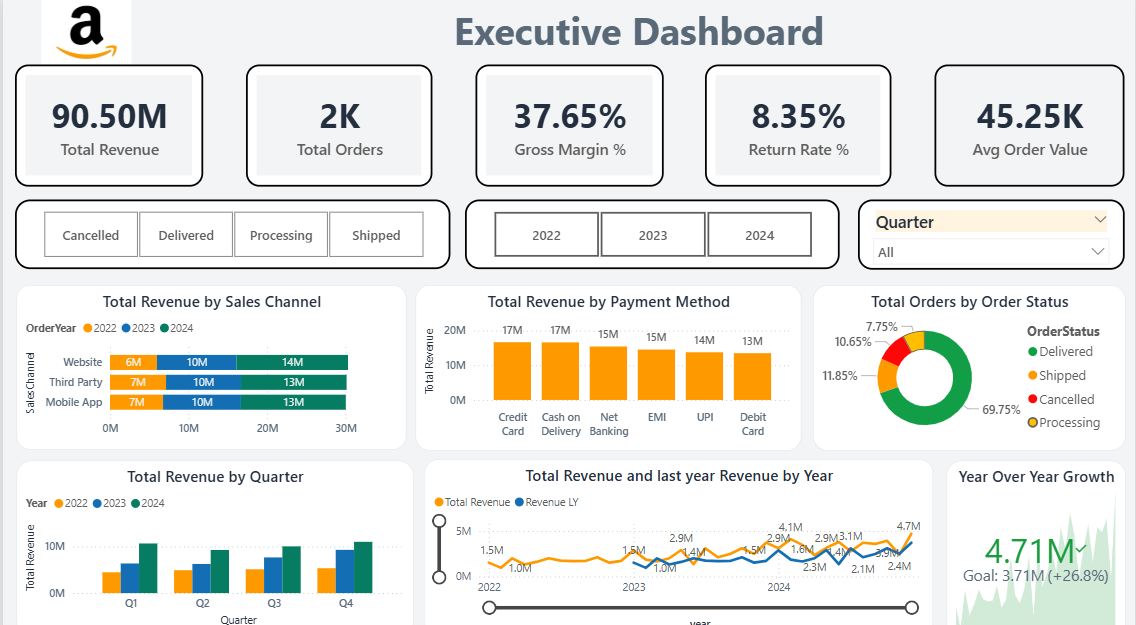

The page's visual inventory and layout, read from the dashboard file:
{"tool":"powerbi","page":{"name":"Executive dashboard","canvas":[1280,720],"ordinal":0},"visuals":[{"type":"lineChart","title":"Total Revenue and last year Revenue by Year","fields":{"Y":["measure table.Total Revenue","measure table.Revenue LY"],"Category":["DateTable.Date.Variation.Date Hierarchy.Year","DateTable.Date.Variation.Date Hierarchy.Month"]},"box":[479.3,519.8,563.5,200.8],"z":0},{"type":"clusteredColumnChart","title":"Total Revenue by Quarter","fields":{"Category":["DateTable.Quarter"],"Y":["measure table.Total Revenue"],"Series":["DateTable.Year"]},"box":[14.6,519.8,448.5,199.2],"z":1000},{"type":"donutChart","fields":{"Category":["Orders.OrderStatus"],"Y":["measure table.Total Orders"]},"box":[945.6,322.2,322.2,186.2],"z":2000},{"type":"barChart","title":"Total Revenue by Sales Channel ","fields":{"Category":["Orders.SalesChannel"],"Y":["measure table.Total Revenue"],"Series":["DateTable.Year"]},"box":[14.6,322.2,440.4,186.2],"z":3000},{"type":"clusteredColumnChart","fields":{"Category":["Orders.PaymentMethod"],"Y":["measure table.Total Revenue"]},"box":[463.1,322.2,471.2,186.2],"z":4000},{"type":"cardVisual","fields":{"Data":["measure table.Total Revenue"]},"box":[14.2,72.9,212.7,137.7],"z":5000},{"type":"cardVisual","fields":{"Data":["measure table.Gross Margin %"]},"box":[533.7,72.9,212.7,137.7],"z":6000},{"type":"cardVisual","fields":{"Data":["measure table.Return Rate %"]},"box":[794.4,72.9,210.6,137.7],"z":7000},{"type":"cardVisual","fields":{"Data":["measure table.Avg Order Value"]},"box":[1053.2,72.9,214.7,137.7],"z":8000},{"type":"cardVisual","fields":{"Data":["measure table.Total Orders"]},"box":[274.9,72.9,210.6,137.7],"z":9000},{"type":"kpi","title":"Year Over Year Growth","fields":{"TrendLine":["DateTable.YearMonth"],"Goal":["measure table.Revenue LY"],"Indicator":["measure table.Total Revenue"]},"box":[1065.5,519.8,202.4,200.8],"z":10000},{"type":"image","box":[30.4,0,127.6,72.9],"z":11000},{"type":"slicer","fields":{"Values":["DateTable.Year"]},"box":[522.5,224.8,423.3,79],"z":12000},{"type":"slicer","fields":{"Values":["DateTable.Quarter"]},"box":[966.7,225.1,301.2,79.3],"z":13000},{"type":"slicer","fields":{"Values":["Orders.OrderStatus"]},"box":[14.2,224.8,492.2,79],"z":14000},{"type":"textbox","box":[158,0,1122,72.9],"z":15000}]}

Visuals, with their boxes in screenshot pixels (x1, y1, x2, y2), scaled from the page's 1280x720 canvas onto the 1136x625 screenshot:
"Total Revenue and last year Revenue by Year" lineChart: [425,451,925,624]
"Total Revenue by Quarter" clusteredColumnChart: [13,451,411,624]
donutChart - Orders.OrderStatus x measure table.Total Orders: [839,280,1125,441]
"Total Revenue by Sales Channel " barChart: [13,280,404,441]
clusteredColumnChart - Orders.PaymentMethod x measure table.Total Revenue: [411,280,829,441]
cardVisual - measure table.Total Revenue: [13,63,201,183]
cardVisual - measure table.Gross Margin %: [474,63,662,183]
cardVisual - measure table.Return Rate %: [705,63,892,183]
cardVisual - measure table.Avg Order Value: [935,63,1125,183]
cardVisual - measure table.Total Orders: [244,63,431,183]
"Year Over Year Growth" kpi: [946,451,1125,624]
image: [27,0,140,63]
slicer - DateTable.Year: [464,195,839,264]
slicer - DateTable.Quarter: [858,195,1125,264]
slicer - Orders.OrderStatus: [13,195,449,264]
textbox: [140,0,1135,63]
